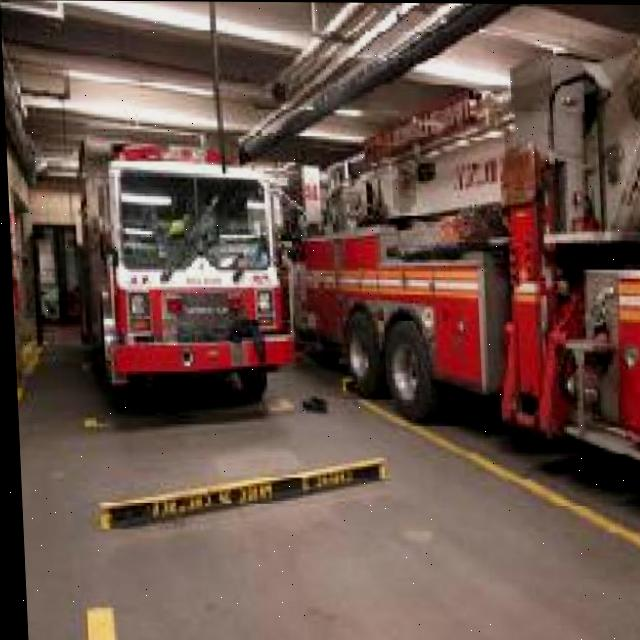emergency: (278, 54, 640, 487), (75, 148, 300, 410)
